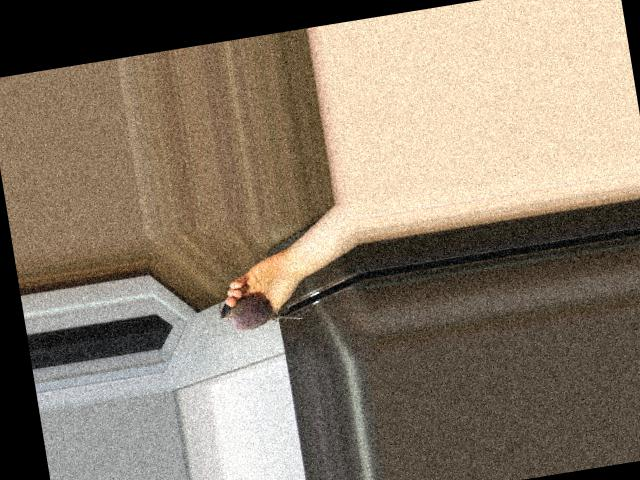beet: (217, 289, 302, 334)
